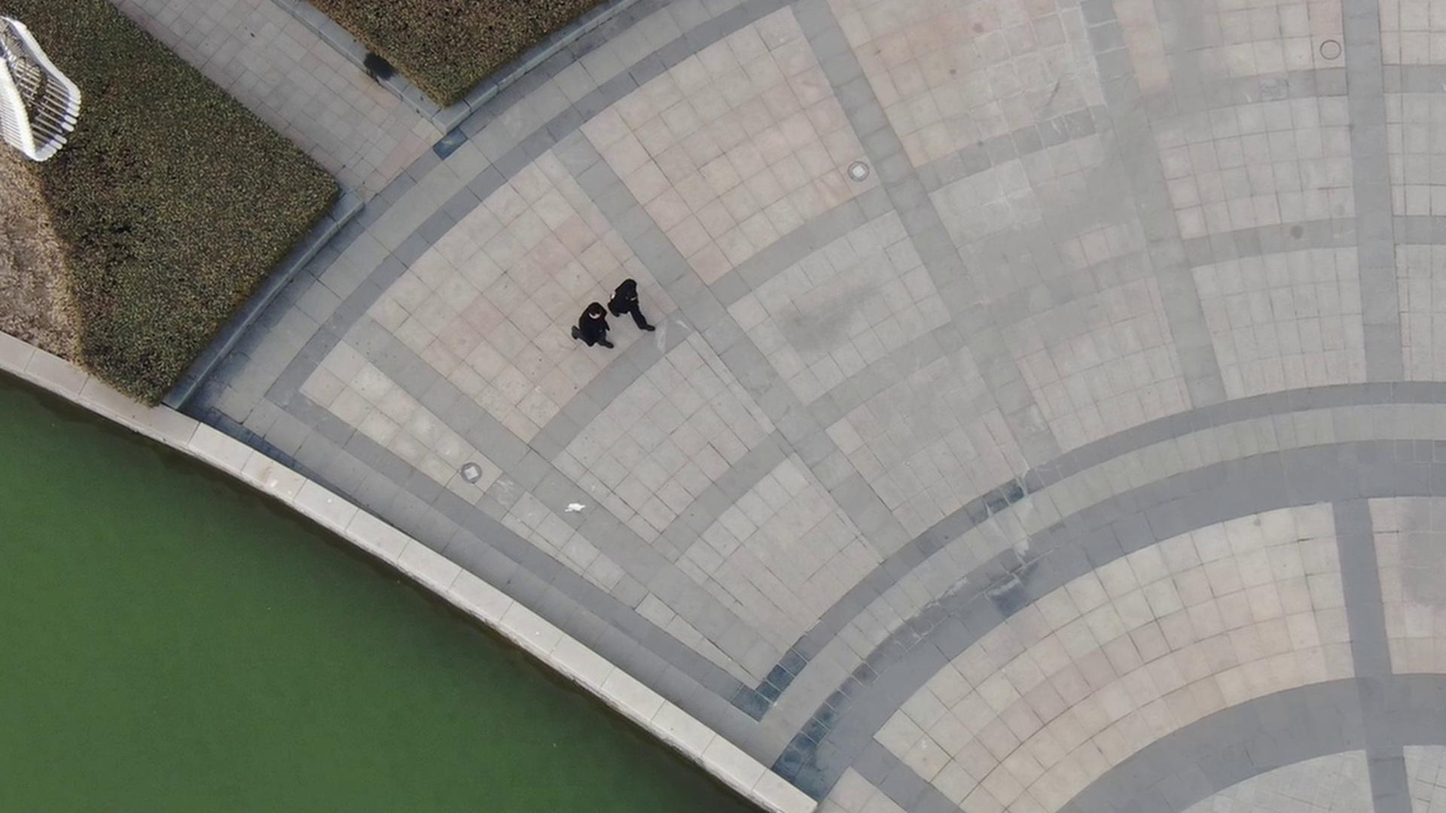human: (595, 271, 651, 331), (561, 297, 617, 355)
